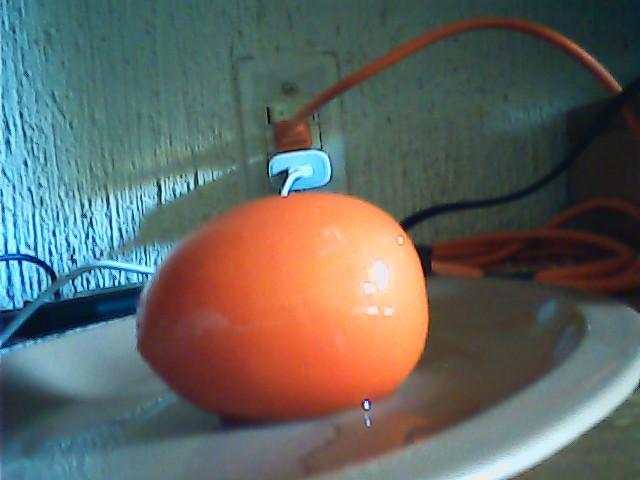maduro: (132, 190, 428, 426)
